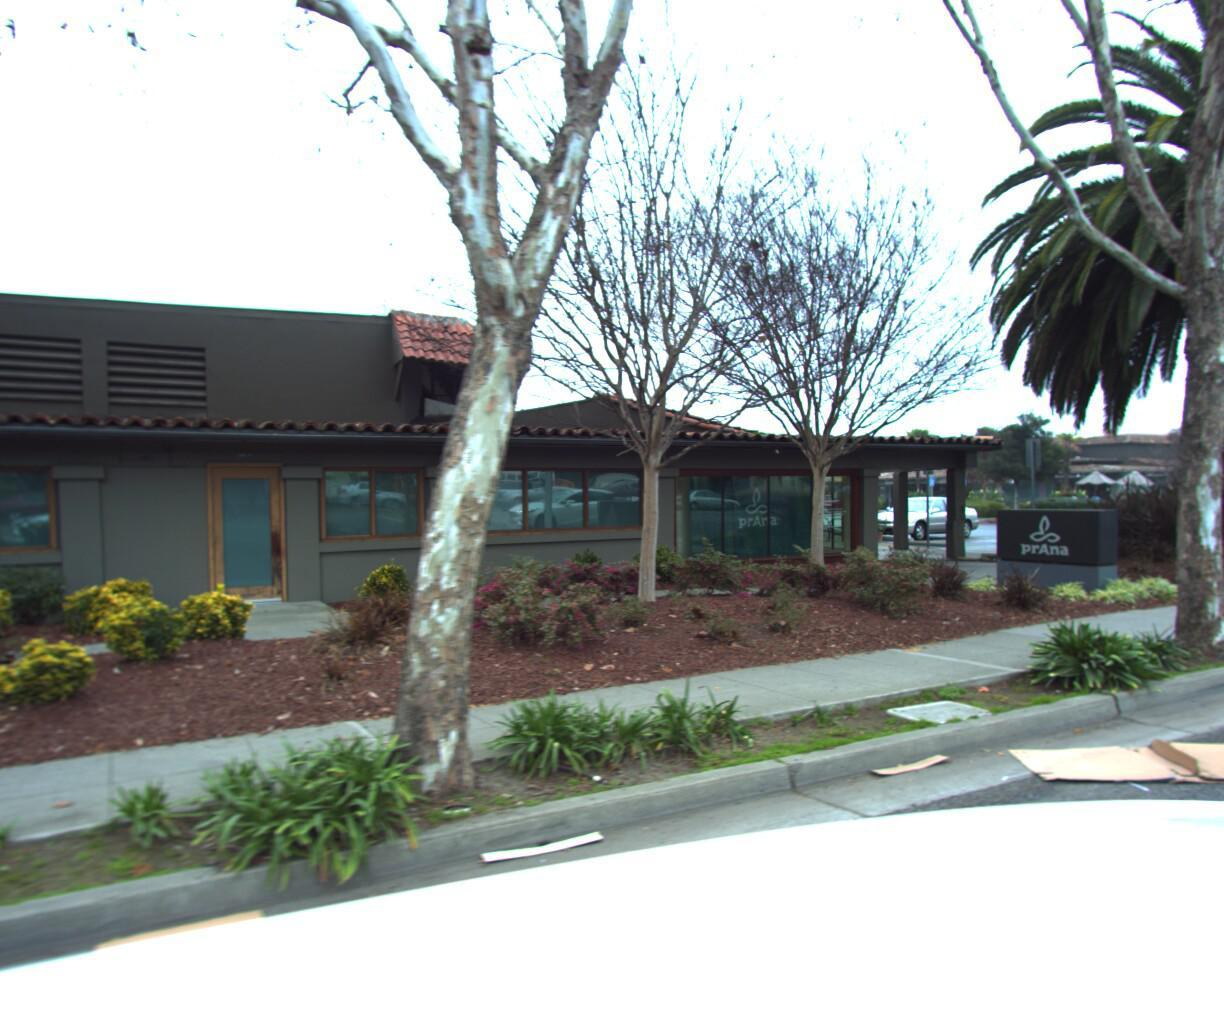car: (860, 488, 991, 539)
